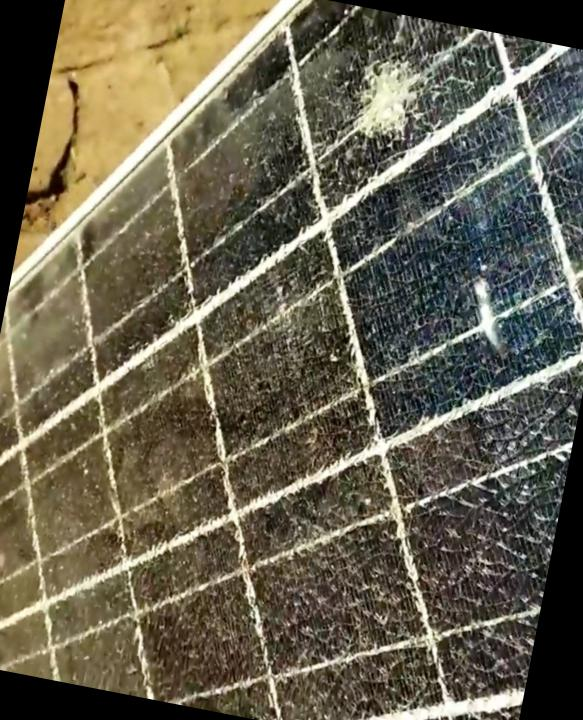Crack: (35, 0, 582, 719), (322, 41, 444, 160), (438, 262, 530, 360)
